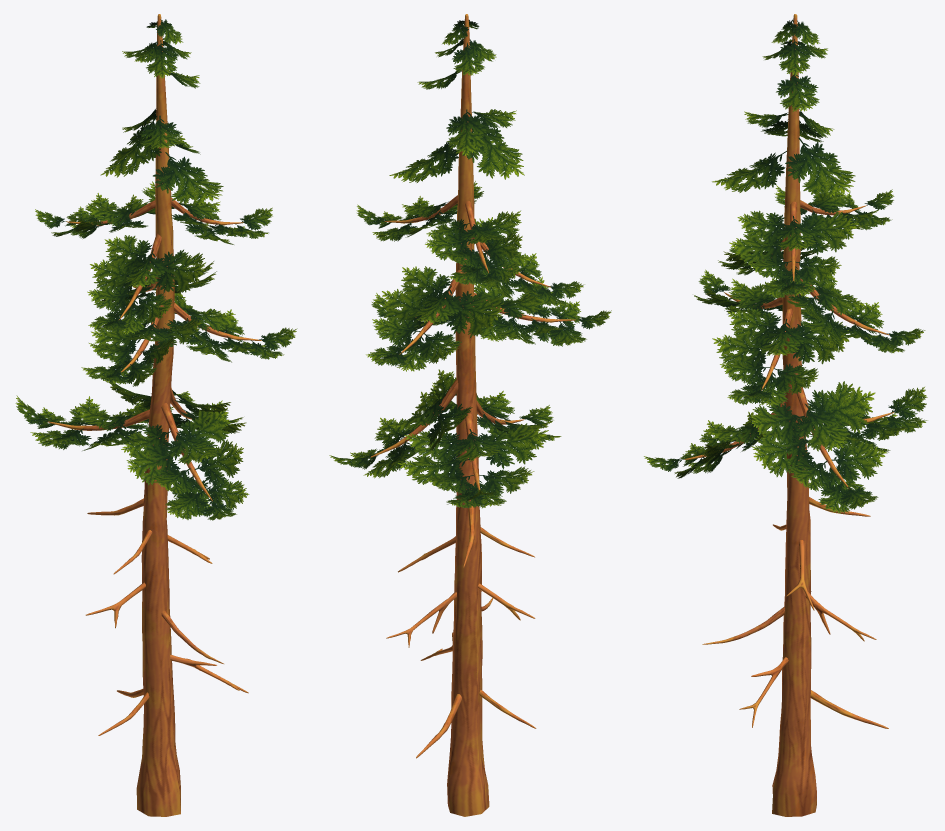
The model's file is pine_var3.glb.
3 views of the same model, side by side, from view 1: azimuth 30°, elevation 25°; view 2: azimuth 150°, elevation 25°; view 3: azimuth 270°, elevation 25° (orthographic).
Parts seen in each view (by area): view 1: stylized_pine_var3_m_leaves_0, stylized_pine_var3_m_trunk_0; view 2: stylized_pine_var3_m_leaves_0, stylized_pine_var3_m_trunk_0; view 3: stylized_pine_var3_m_leaves_0, stylized_pine_var3_m_trunk_0.
Boxes of the visible parts, left/top/right/bottom form: stylized_pine_var3_m_leaves_0: left=15, top=19, right=297, bottom=520; stylized_pine_var3_m_trunk_0: left=47, top=14, right=261, bottom=816; stylized_pine_var3_m_leaves_0: left=329, top=20, right=611, bottom=508; stylized_pine_var3_m_trunk_0: left=370, top=14, right=575, bottom=816; stylized_pine_var3_m_leaves_0: left=644, top=18, right=927, bottom=513; stylized_pine_var3_m_trunk_0: left=684, top=14, right=893, bottom=816.
Bounding box in the file's own units: 3.51 × 12.18 × 4.
2 materials, 2 textured.
